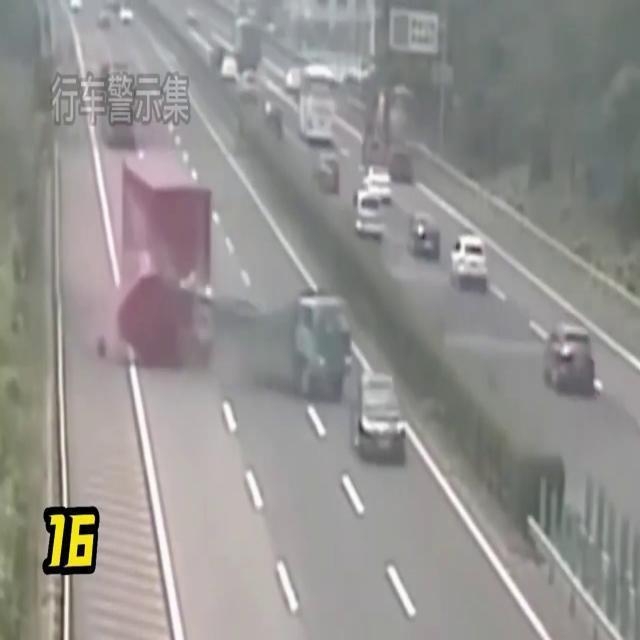accident: (118, 160, 352, 396)
